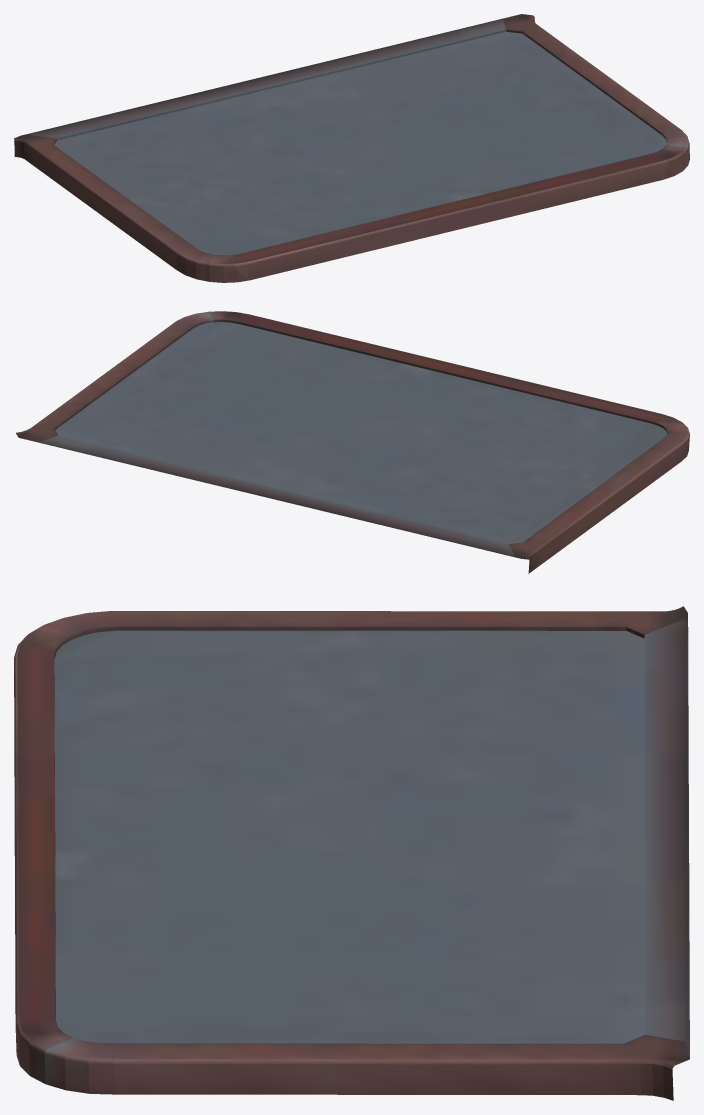
File: dingpeng.glb
3 views of the same model, one above another, from view 1: azimuth 30°, elevation 25°; view 2: azimuth 150°, elevation 25°; view 3: azimuth 270°, elevation 25° (orthographic). The views are drawn at different scales.
Parts seen in each view (by area): view 1: dingpeng; view 2: dingpeng; view 3: dingpeng.
Boxes of the visible parts, bbox=[...] form: dingpeng: bbox=[14, 14, 689, 282]; dingpeng: bbox=[16, 311, 689, 573]; dingpeng: bbox=[14, 606, 689, 1100].
Bounding box in the file's own units: 0.5606 × 0.0215 × 0.3485.
1 material, 1 textured.
